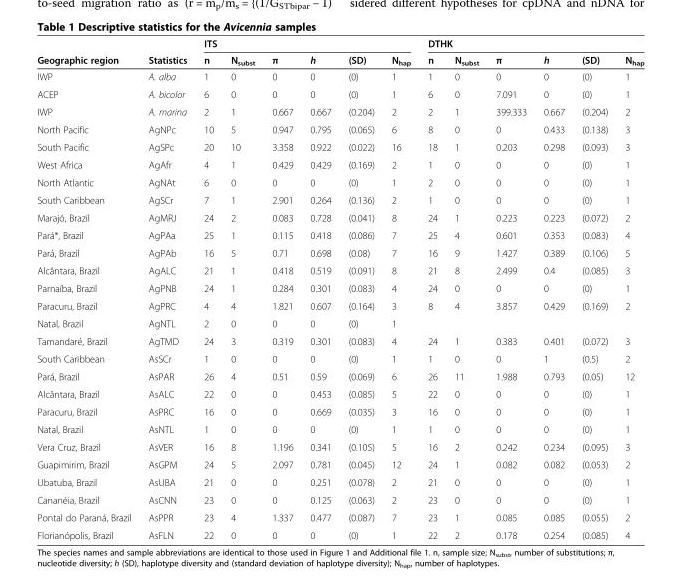table: (36, 37, 643, 540)
table column: (36, 37, 139, 540), (139, 37, 194, 540), (486, 37, 534, 540), (339, 37, 382, 540), (572, 37, 615, 540), (221, 37, 262, 540), (445, 37, 486, 540), (262, 37, 301, 540), (301, 37, 339, 540), (534, 37, 572, 540), (382, 37, 418, 540), (615, 37, 643, 540), (194, 37, 221, 540), (418, 37, 445, 540)
table column header: (36, 37, 643, 68)
table row: (36, 50, 643, 68), (36, 102, 643, 120), (36, 137, 643, 155), (36, 155, 643, 173), (36, 190, 643, 208), (36, 208, 643, 226), (36, 243, 643, 261), (36, 261, 643, 279), (36, 296, 643, 314), (36, 314, 643, 332), (36, 349, 643, 367), (36, 384, 643, 402), (36, 402, 643, 420), (36, 437, 643, 455), (36, 455, 643, 473), (36, 490, 643, 508), (36, 508, 643, 526), (36, 68, 643, 85), (36, 85, 643, 102), (36, 120, 643, 137), (36, 173, 643, 190), (36, 226, 643, 243), (36, 279, 643, 296), (36, 332, 643, 349), (36, 367, 643, 384), (36, 420, 643, 437), (36, 473, 643, 490), (36, 526, 643, 540), (36, 37, 643, 50)
table spanning cell: (36, 37, 139, 68), (418, 37, 643, 50), (194, 37, 418, 50), (139, 37, 194, 68)
